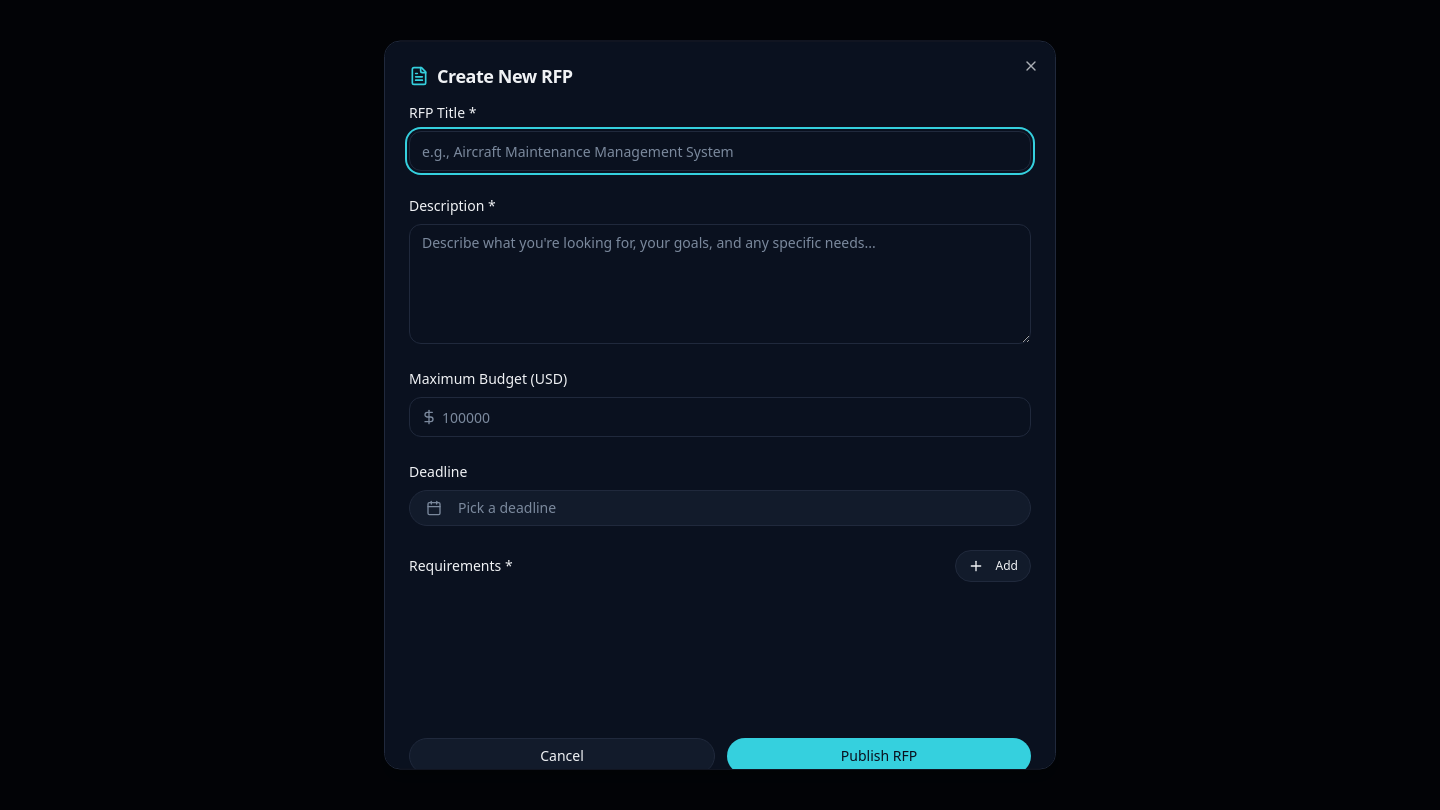
Scenario: CreateRFPForm › shows validation error if requirements are all empty
Note: Fill valid basic details
Type "Valid RFP Title" into the field labelled "RFP Title *".
click(720, 150); type("Valid RFP Title")  # box [409,130,1031,170]
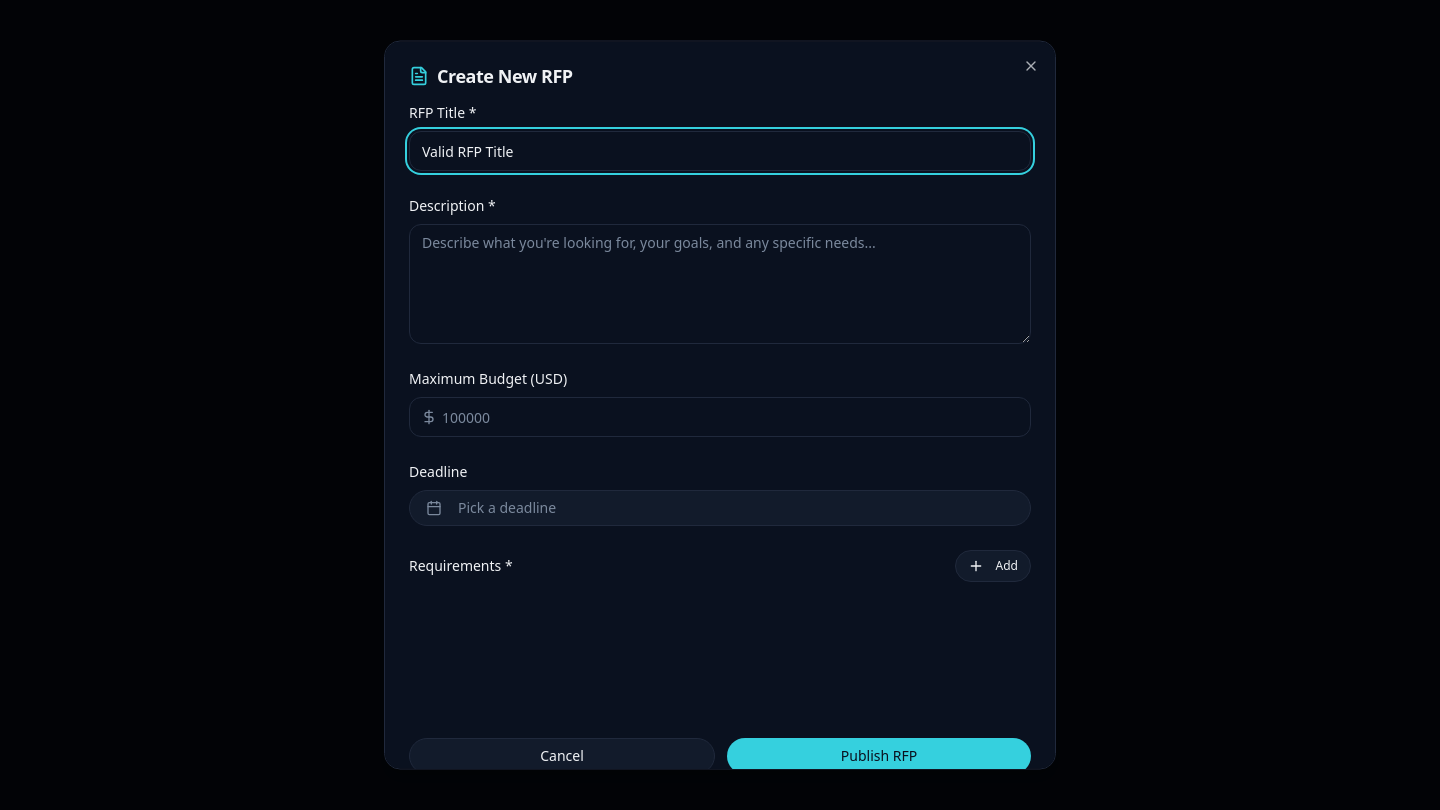
Replace the text in the text box labelled "Description *" with "This is a description that is long enough to pass validation." at (720, 284), box [409,224,1031,344]
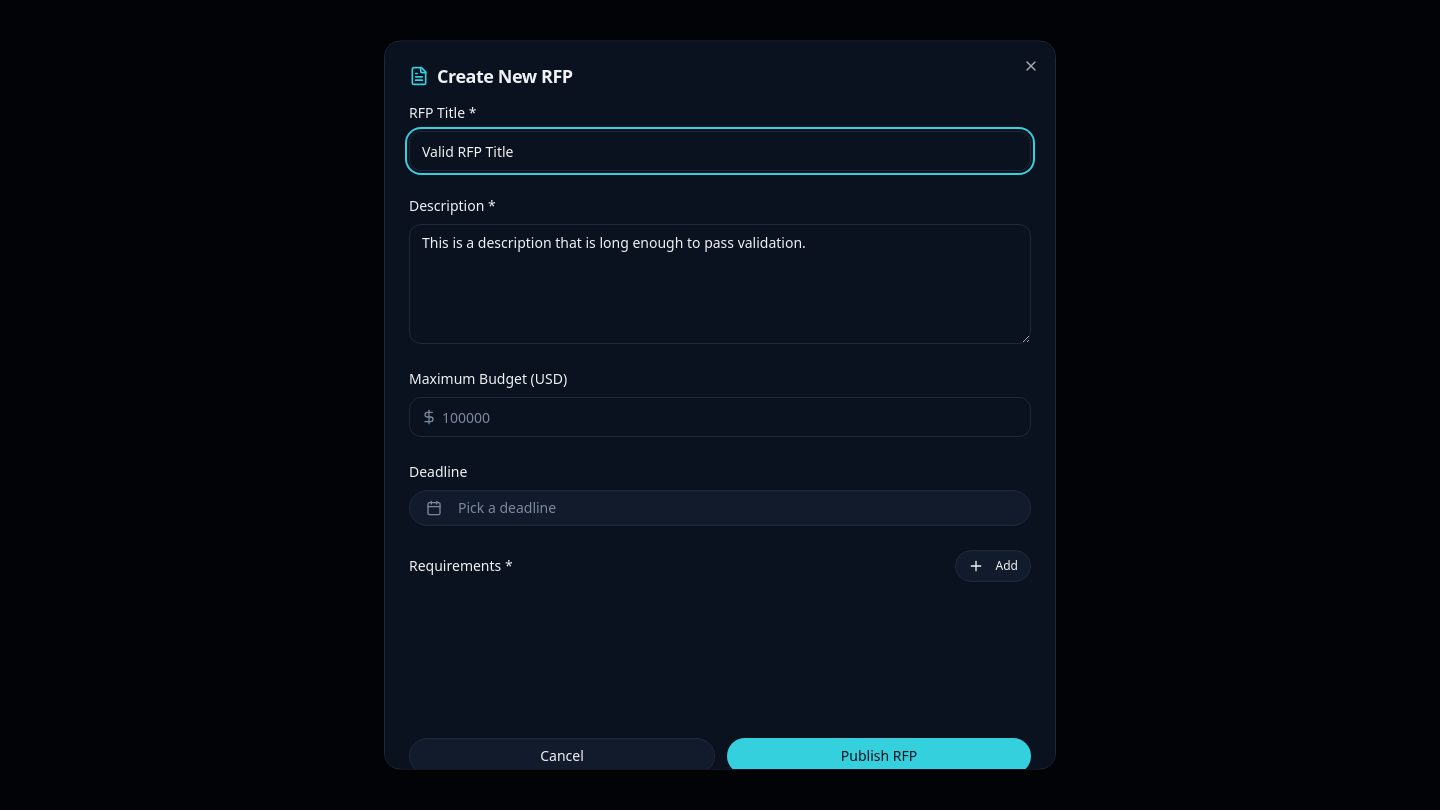
Note: Leave the requirement empty and submit
Submit the form, box [409,102,1031,774]
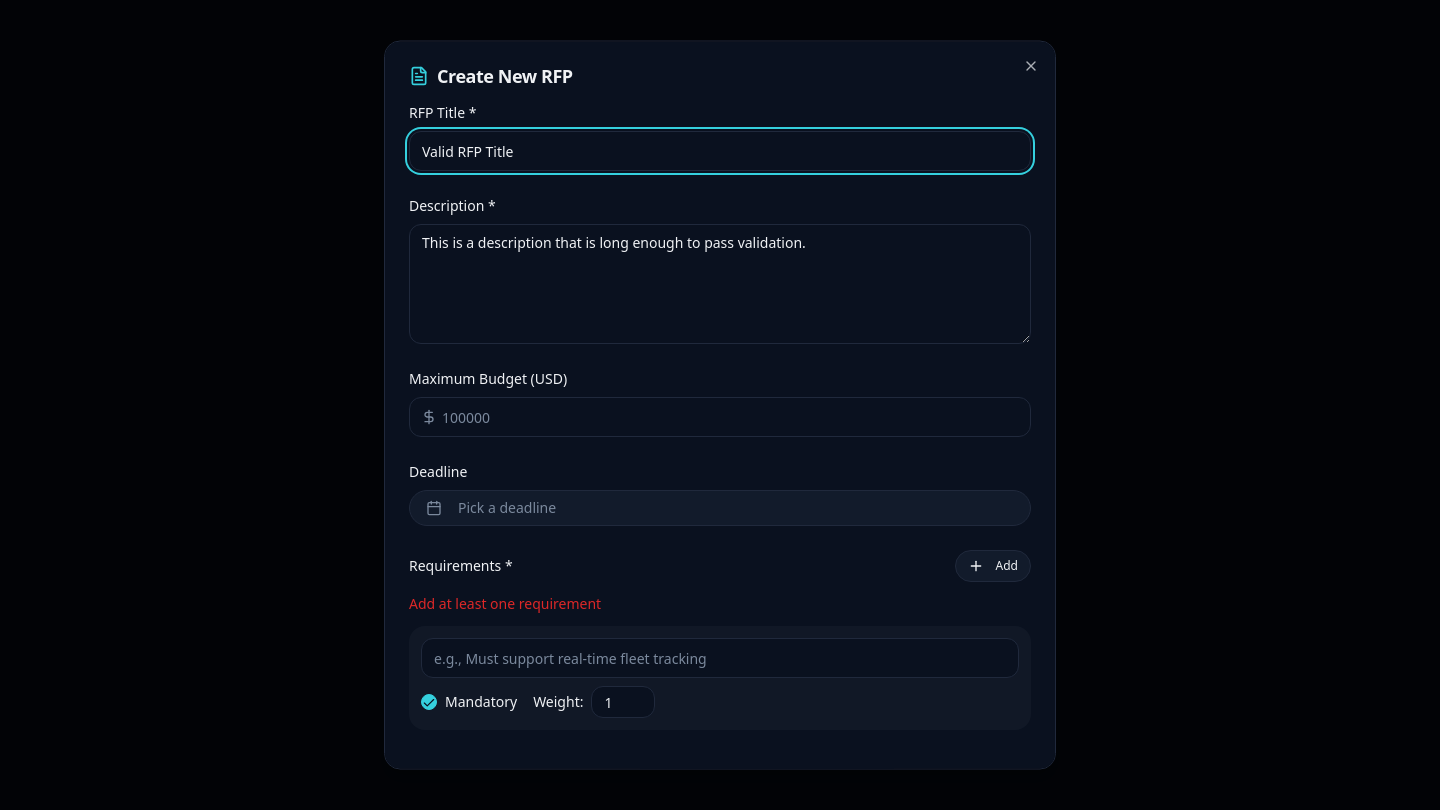
Expected: the text "Add at least one requirement" is shown, [409,594,601,612]
